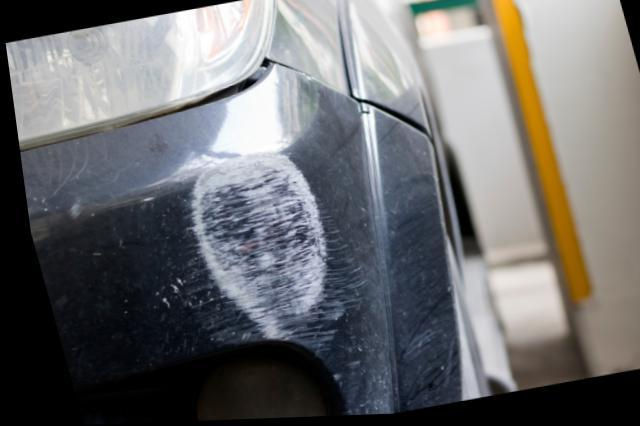scratch: (166, 147, 356, 360)
